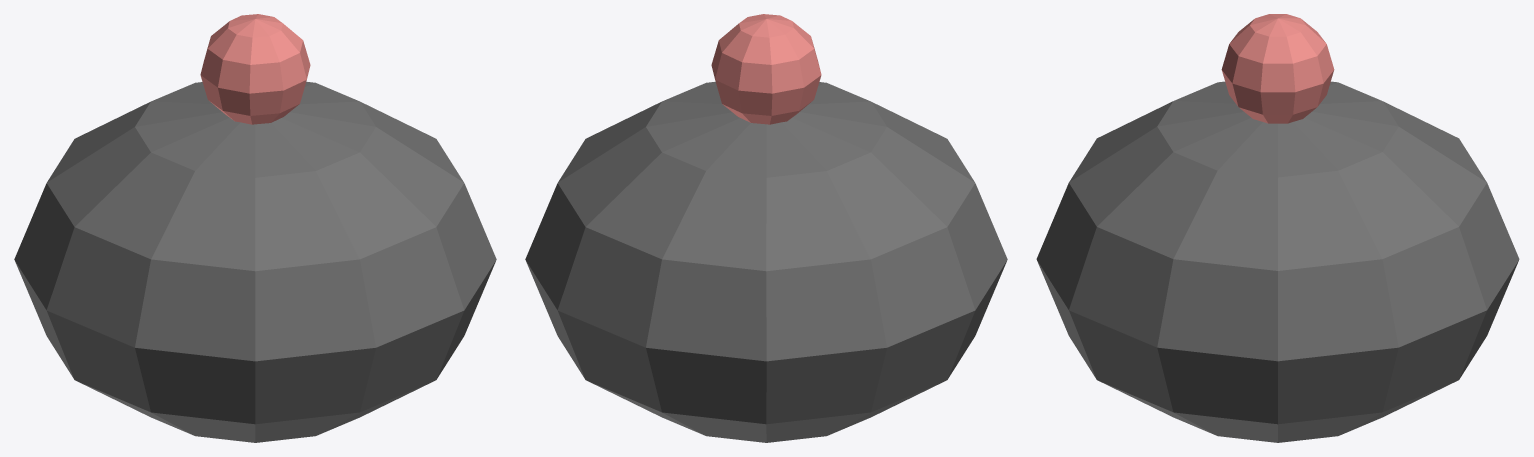
Rendered from SM_Proj_Mine_01.glb.
The picture shows the model from 3 angles, left to right: view 1: azimuth 30°, elevation 25°; view 2: azimuth 150°, elevation 25°; view 3: azimuth 270°, elevation 25°; orthographic projection.
Parts seen in each view (by area): view 1: SM_Mine_Body, SM_Mine_Light; view 2: SM_Mine_Body, SM_Mine_Light; view 3: SM_Mine_Body, SM_Mine_Light.
Part boxes in pixels (left/top/right/bottom): SM_Mine_Body: left=14, top=81, right=496, bottom=442; SM_Mine_Light: left=200, top=14, right=310, bottom=124; SM_Mine_Body: left=525, top=81, right=1007, bottom=442; SM_Mine_Light: left=711, top=14, right=821, bottom=124; SM_Mine_Body: left=1036, top=81, right=1519, bottom=442; SM_Mine_Light: left=1221, top=14, right=1334, bottom=123.
Size of the model in its own units: 0.3 by 0.27 by 0.3.
